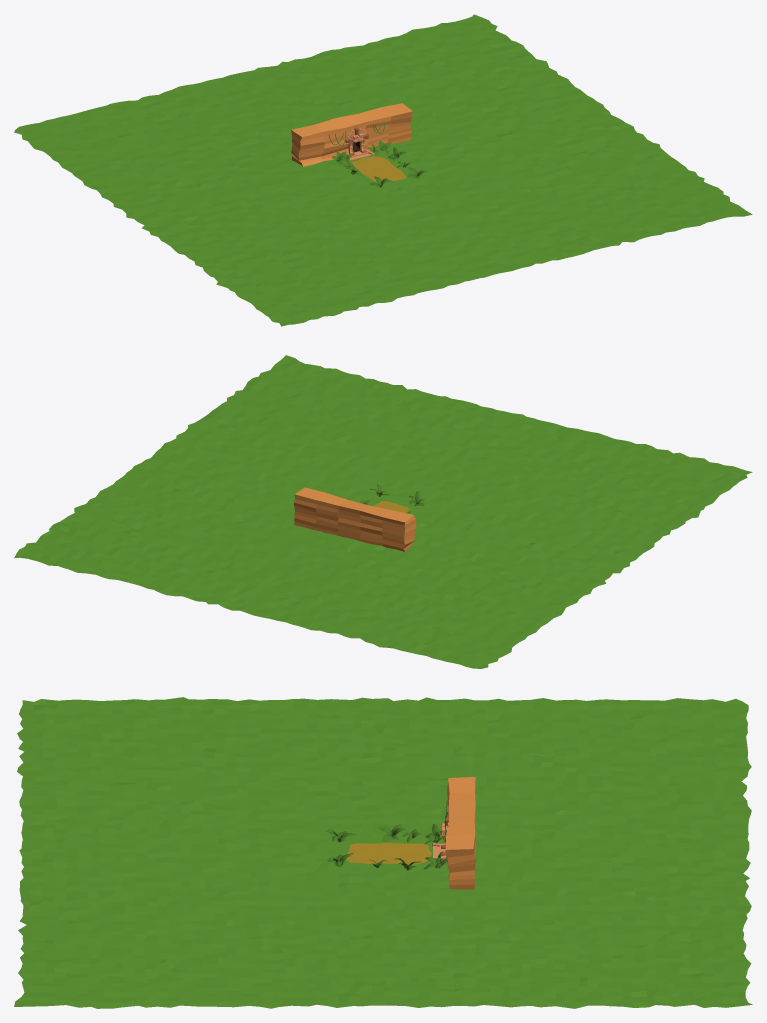
Rendered from Jungle_level.fbx.
3 renders of one model, top to bottom at view 1: azimuth 30°, elevation 25°; view 2: azimuth 150°, elevation 25°; view 3: azimuth 270°, elevation 25°, orthographic. The views are drawn at different scales.
Parts seen in each view (by area): view 1: Plane.023, Cube.028; view 2: Plane.023, Cube.028; view 3: Plane.023, Cube.028.
Boxes of the visible parts, box(x1,y1,x2,y2) form: Plane.023: box(14, 14, 752, 326); Cube.028: box(291, 103, 412, 166); Plane.023: box(14, 355, 752, 668); Cube.028: box(294, 487, 416, 551); Plane.023: box(14, 697, 752, 1008); Cube.028: box(445, 777, 476, 889).
Size of the model in its own units: 5777 by 455 by 5780.
